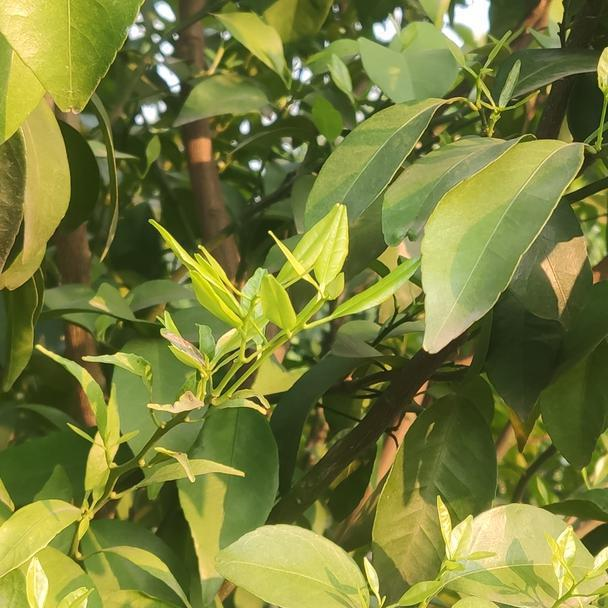shoot: (168, 217, 426, 391), (541, 525, 608, 608)
